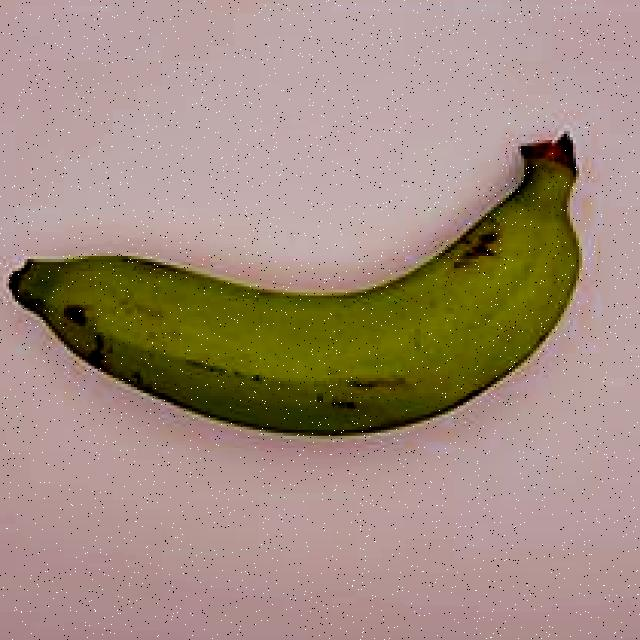Raw: (0, 119, 625, 451)
